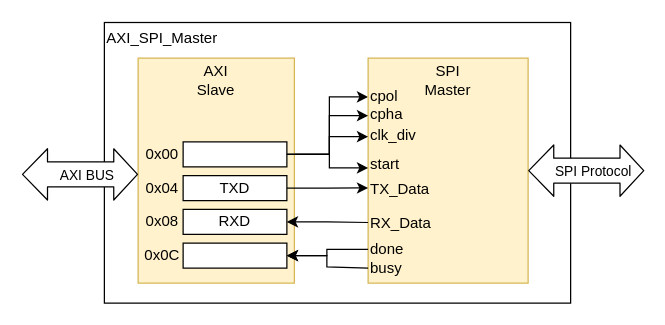
The diagram is 665 pixels wide and 325 high, and some of its shapes have lost their labels. The centre of each missing label's shape, as x and y in pixels:
"CR" goes at [234,154].
"STATUS" goes at [234,255].
